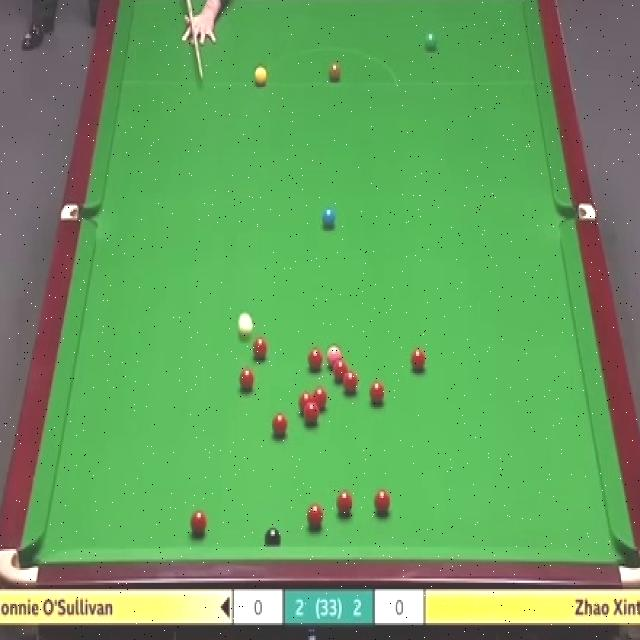black-ball: (264, 528, 281, 547)
blue-ball: (320, 203, 336, 230)
brown-ball: (328, 63, 341, 82)
green-ball: (422, 32, 438, 53)
pink-ball: (328, 346, 342, 369)
red-ball: (409, 348, 427, 378), (190, 509, 207, 537), (374, 488, 391, 516), (336, 490, 353, 517), (308, 503, 324, 530), (368, 380, 384, 407), (239, 370, 256, 395), (272, 413, 287, 438), (313, 388, 328, 413), (333, 359, 349, 382), (343, 371, 358, 395), (254, 338, 268, 360), (304, 405, 318, 426), (299, 392, 313, 413), (308, 351, 322, 371)
white-ball: (238, 310, 253, 336)
yellow-ball: (253, 64, 267, 86)
